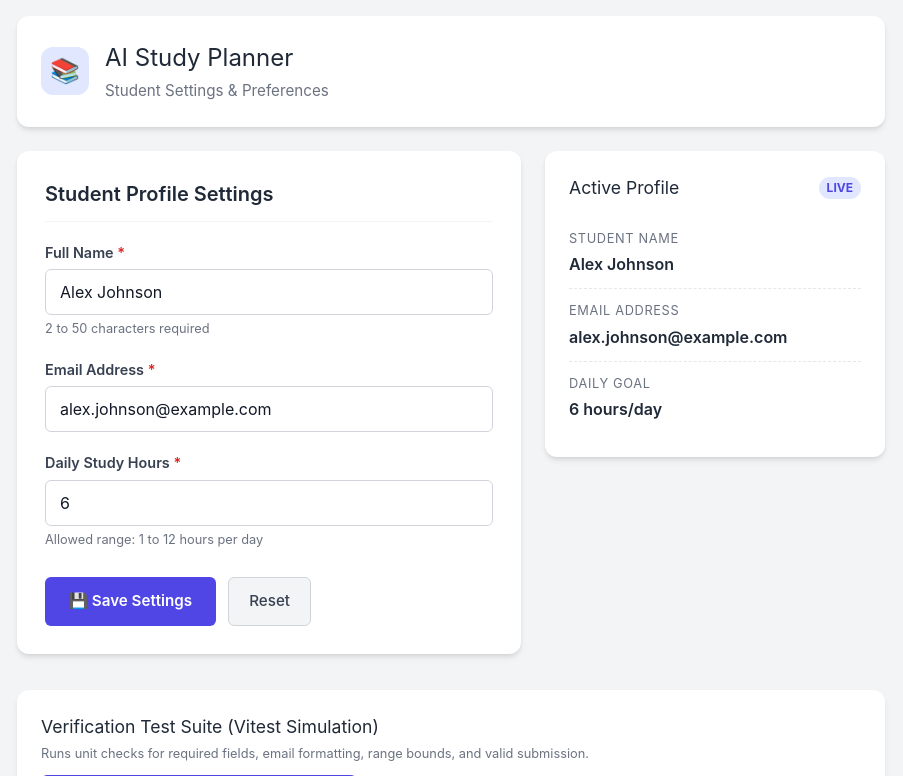
Student Settings Form › shows required-field validation messages
Clear the field labelled "Full Name *" at (269, 292), box [45,269,493,315]
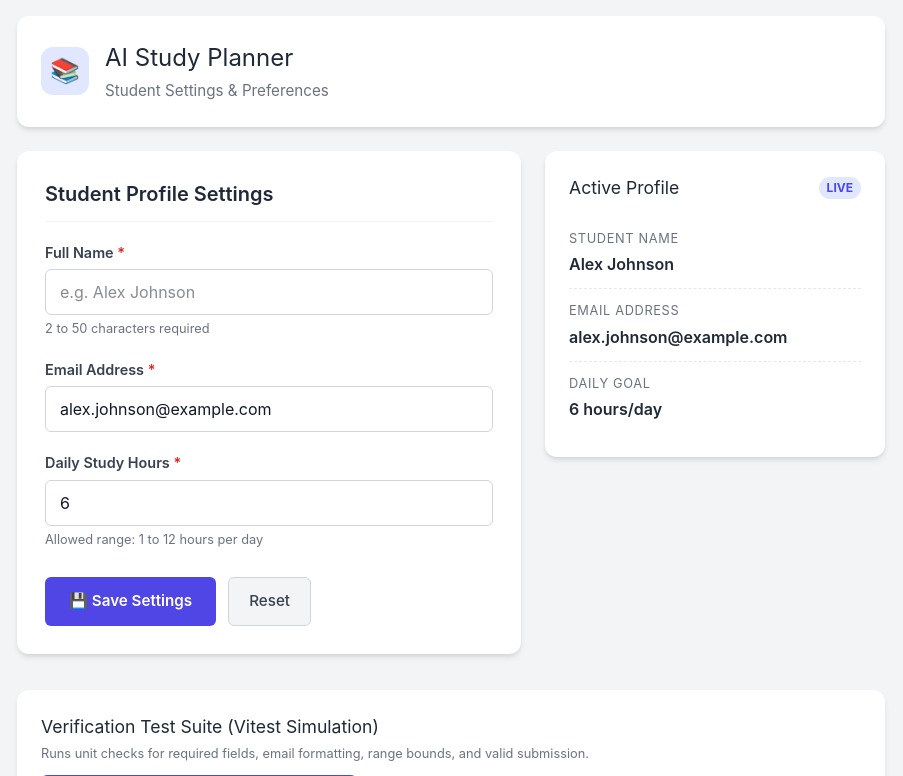
Clear the field labelled "Email Address *" at (269, 409), box [45,386,493,432]
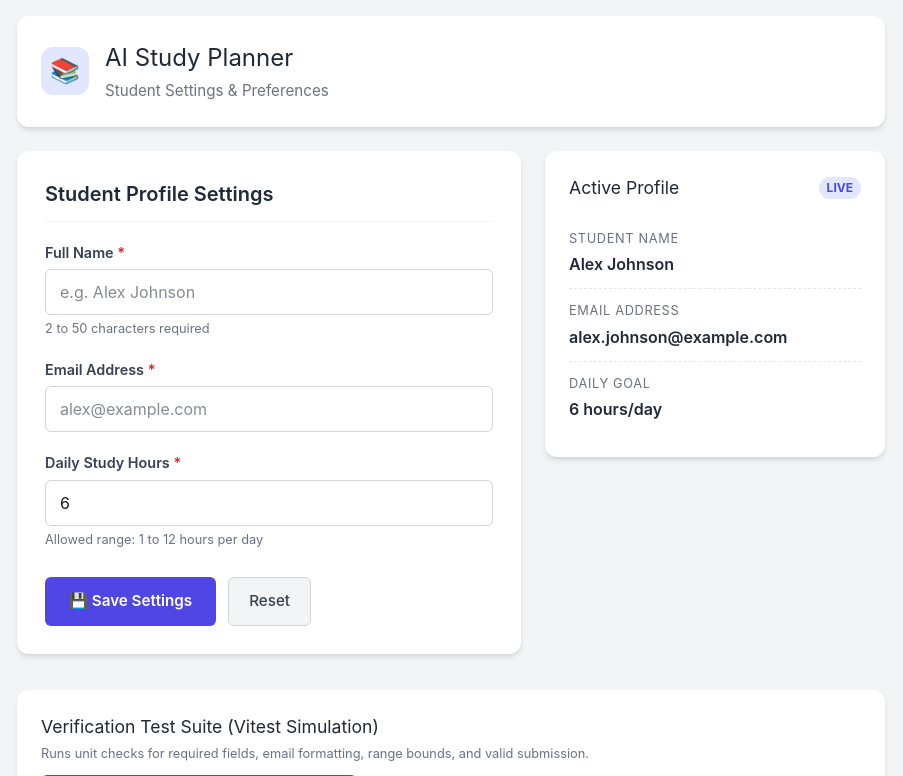
Clear the number field labelled "Daily Study Hours *" at (269, 503), box [45,480,493,526]
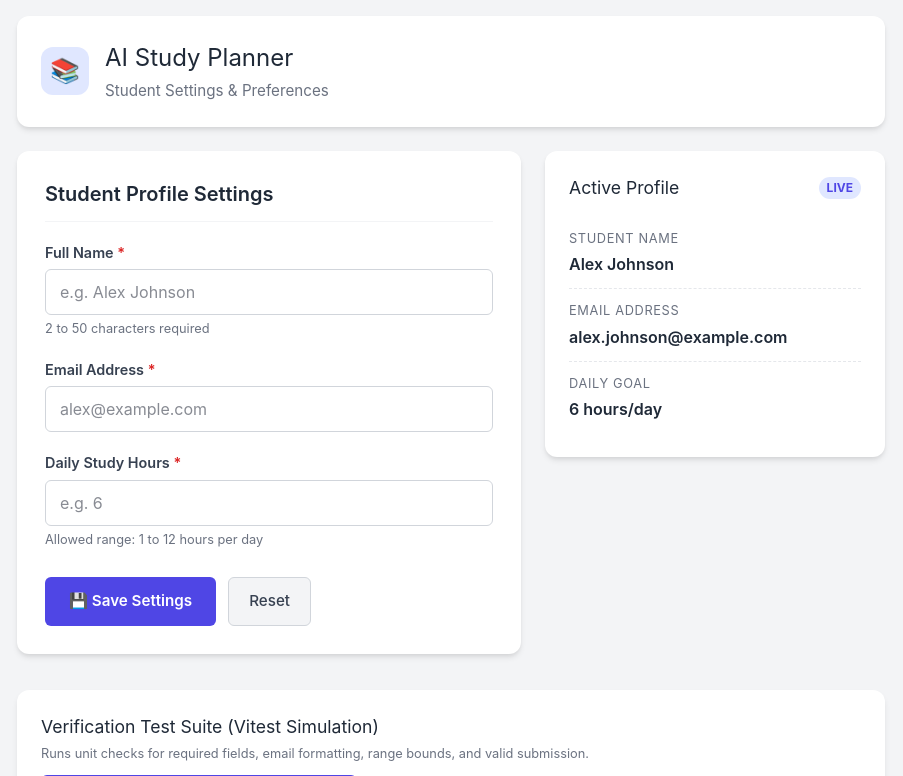
Click the button "💾 Save Settings" at (131, 601), box [45,577,216,626]
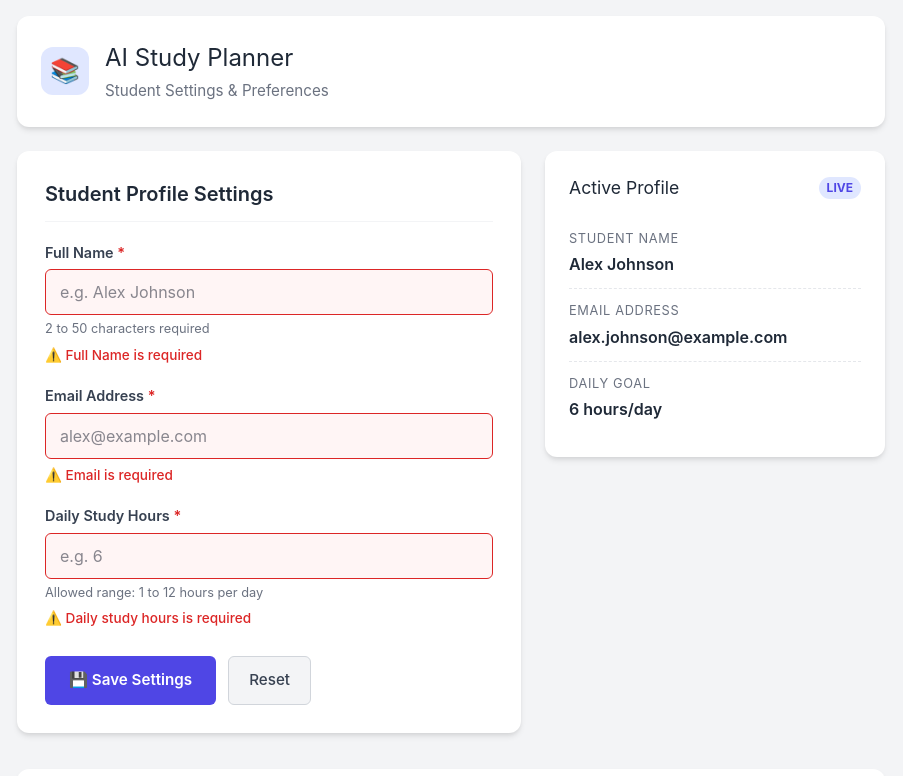
Check: the text "⚠️ Full Name is required" is shown, box [45,347,202,363]
Check: the text "⚠️ Email is required" is shown, box [45,467,173,483]
Check: the text "⚠️ Daily study hours is required" is shown, box [45,610,251,626]
